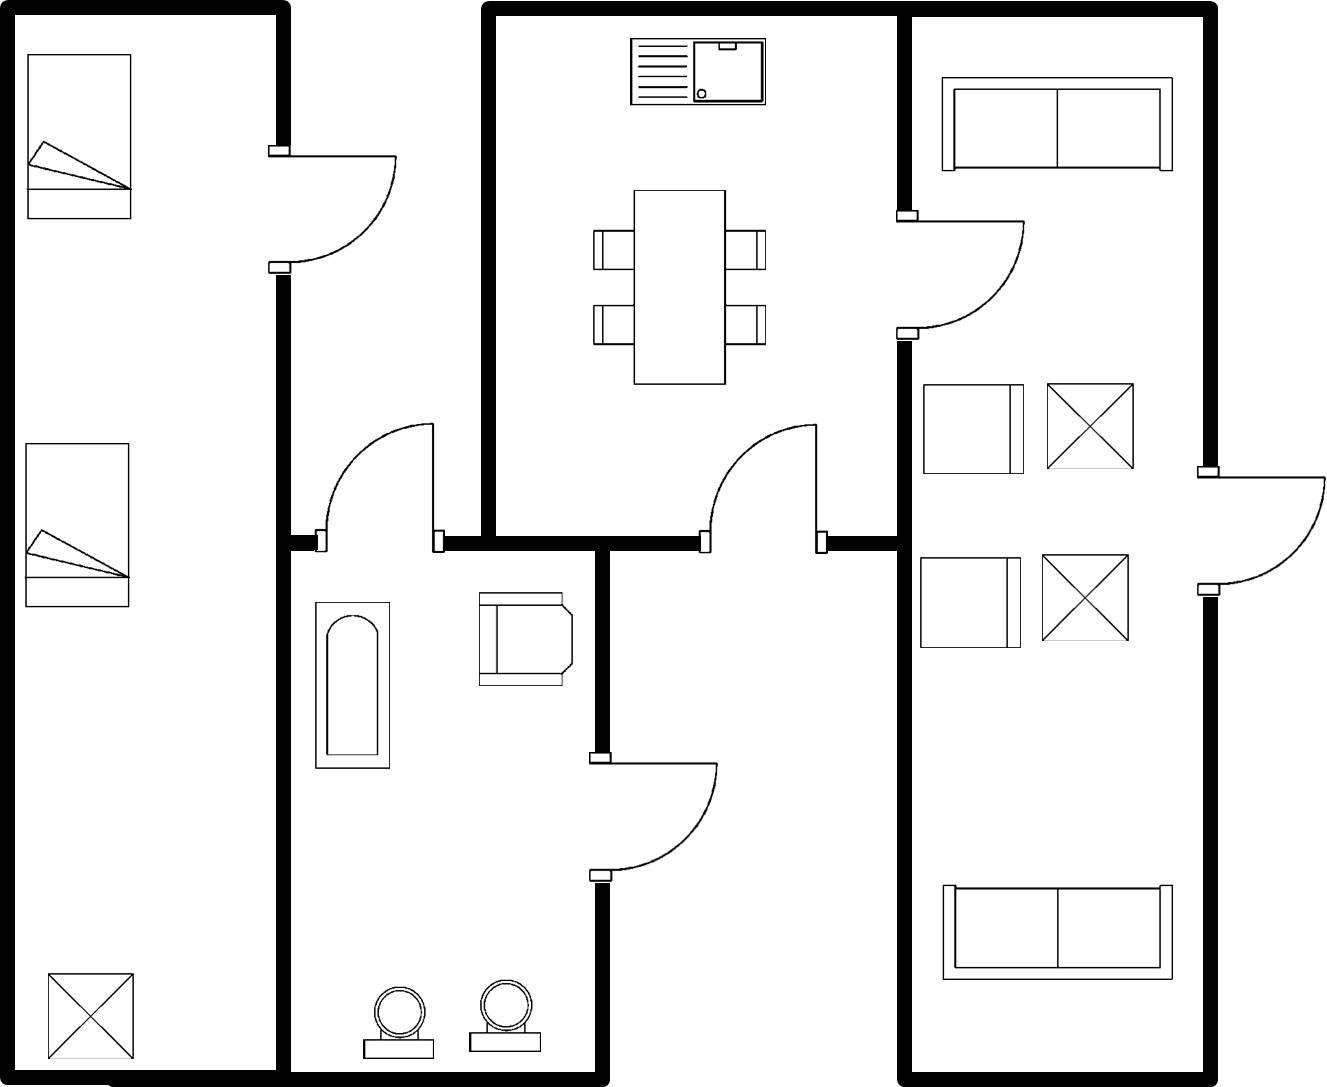bed: (19, 435, 140, 614), (19, 46, 137, 227)
dining_table: (582, 177, 772, 390)
sink: (616, 30, 778, 117)
sofa: (934, 69, 1180, 182), (932, 876, 1182, 987)
toilet: (353, 976, 444, 1067), (456, 973, 547, 1059)
tub: (308, 595, 400, 778)
